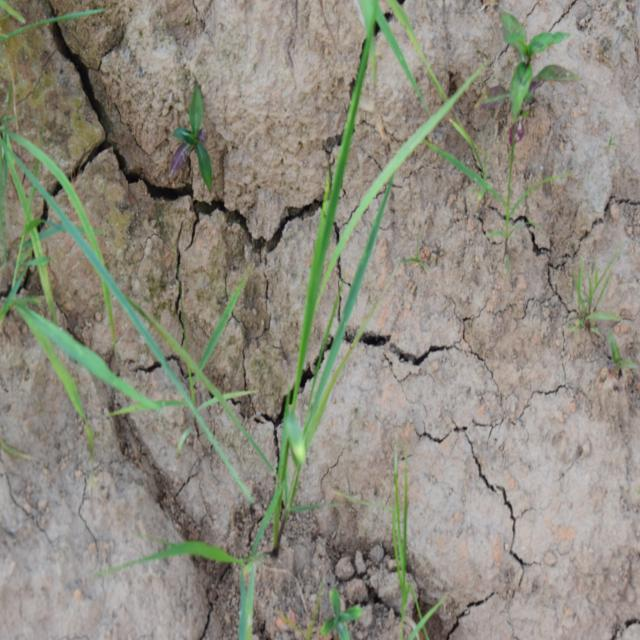green_foxtail: (276, 80, 422, 513)
